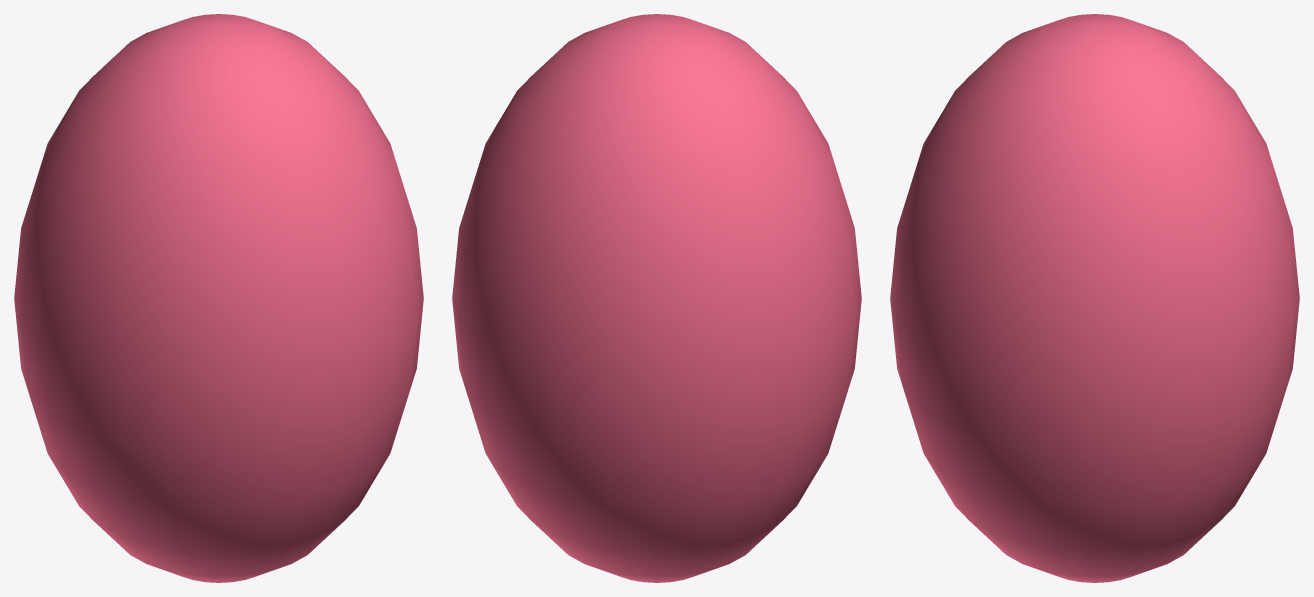
File: enemy_bolt.glb
3 views of the same model, side by side, from view 1: azimuth 30°, elevation 25°; view 2: azimuth 150°, elevation 25°; view 3: azimuth 270°, elevation 25° (orthographic).
Visible parts, largest first — view 1: enemy_bolt; view 2: enemy_bolt; view 3: enemy_bolt.
Part boxes in pixels (x1,y1,x2,y2): enemy_bolt: (14, 14, 423, 582); enemy_bolt: (452, 14, 861, 582); enemy_bolt: (890, 14, 1299, 582).
Bounding box in the file's own units: 0.26 × 0.38 × 0.26.
